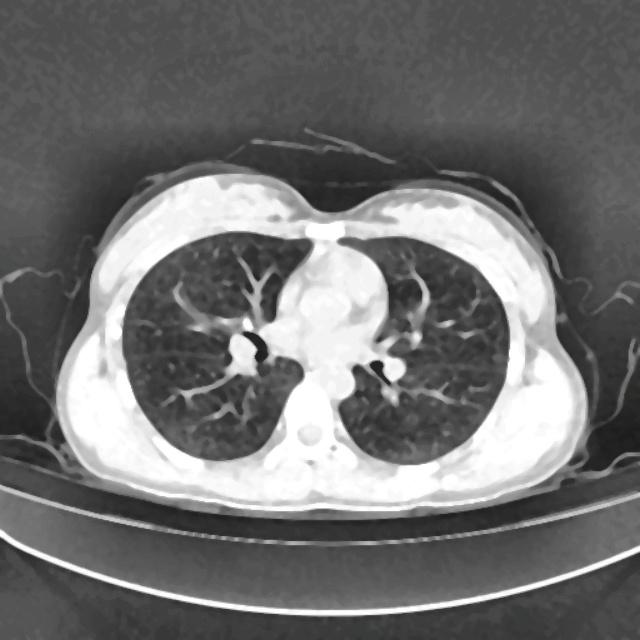covid: (52, 147, 595, 518)
